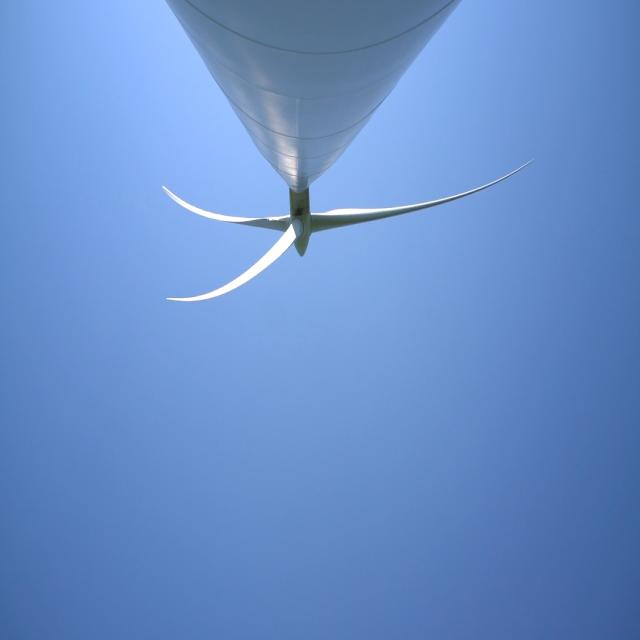blade 1: (324, 167, 526, 249)
blade 2: (135, 171, 281, 235)
blade 3: (158, 255, 290, 316)
